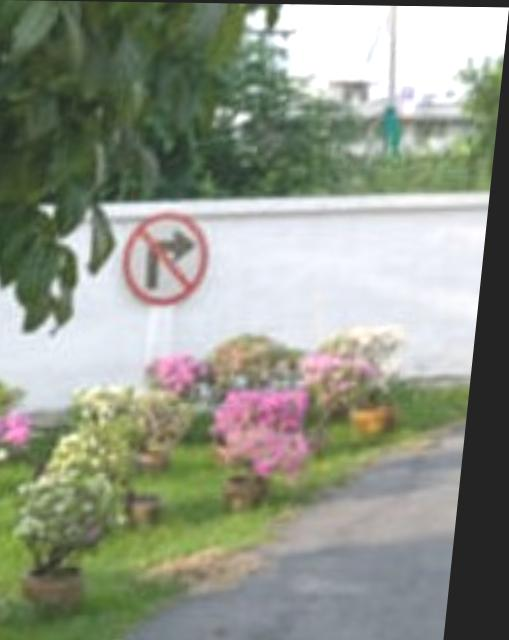not_turn_right: (119, 205, 227, 314)
